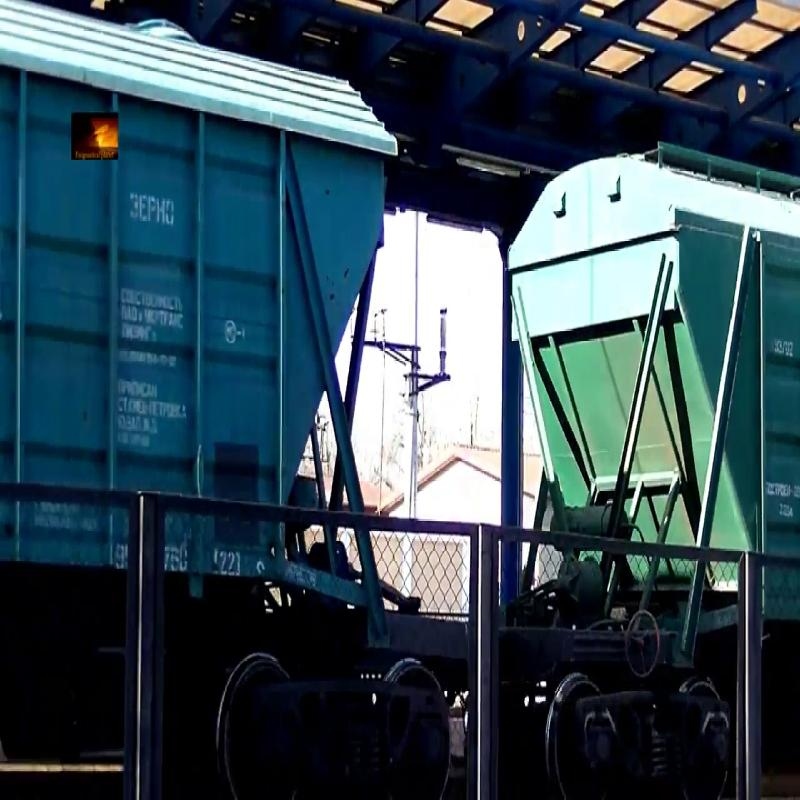train: (1, 2, 409, 742), (501, 5, 800, 724)
